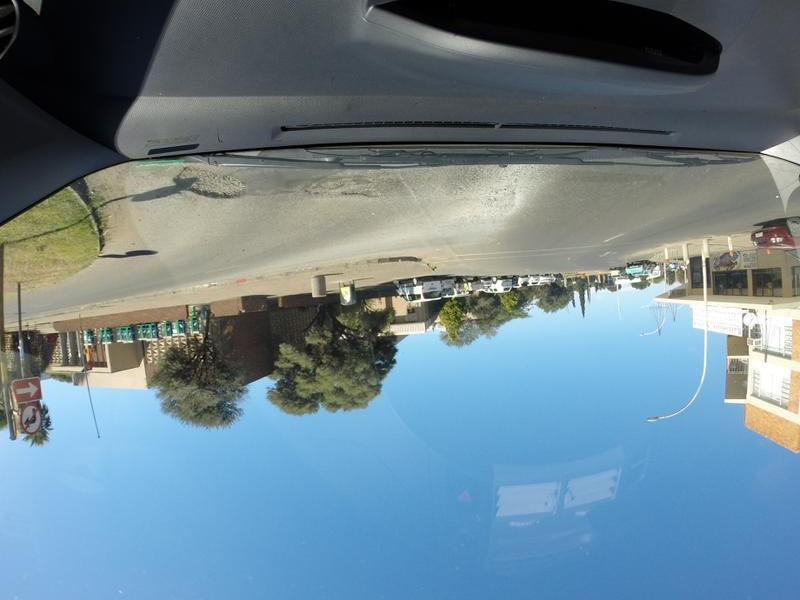pothole: (171, 161, 249, 205), (295, 175, 381, 209)
